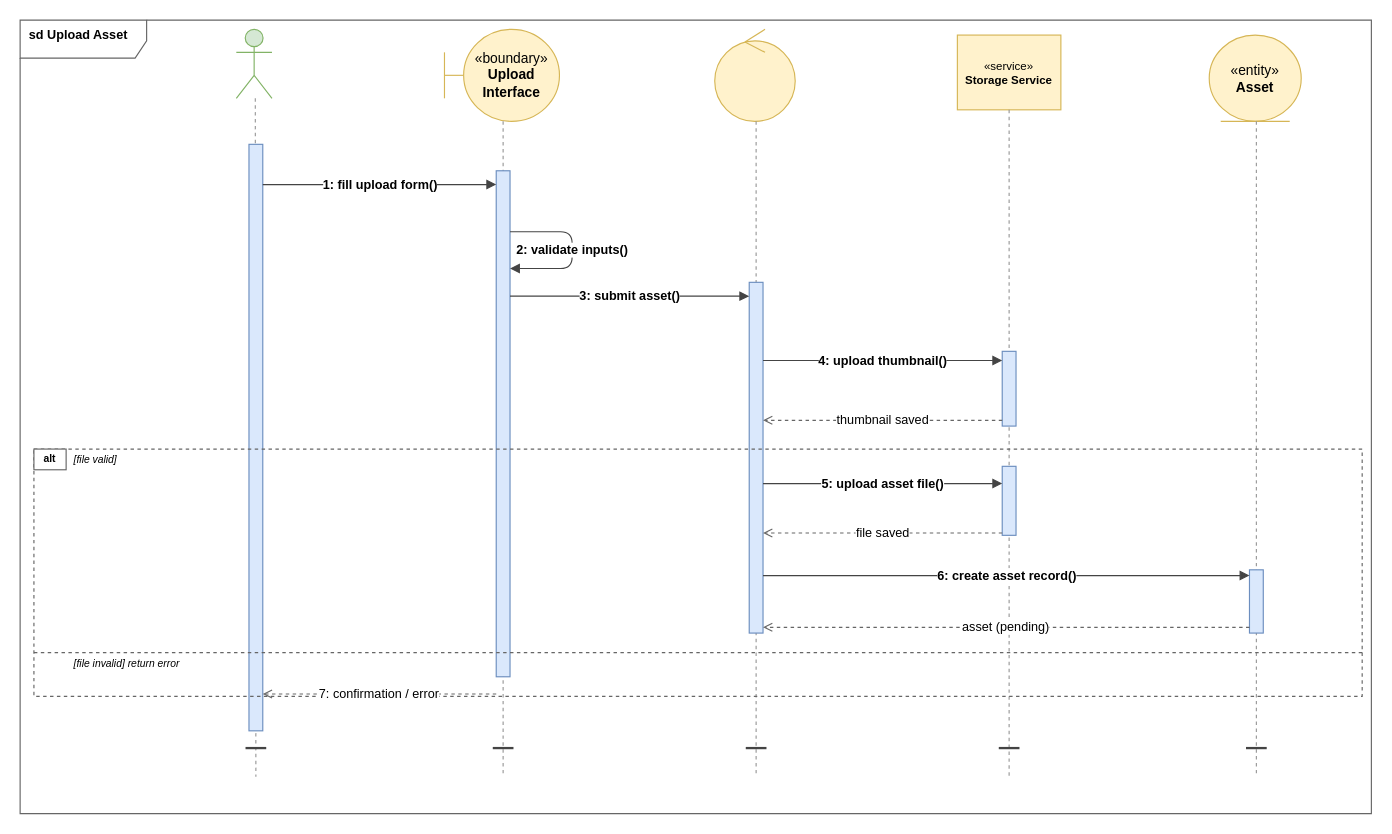
Some shapes in this 1392 by 834 pixel diagram are drawn without their labels. Each missing label, with the centre of its shape:
":Seller" belongs at (253,63).
"Asset Controller" belongs at (754,74).
